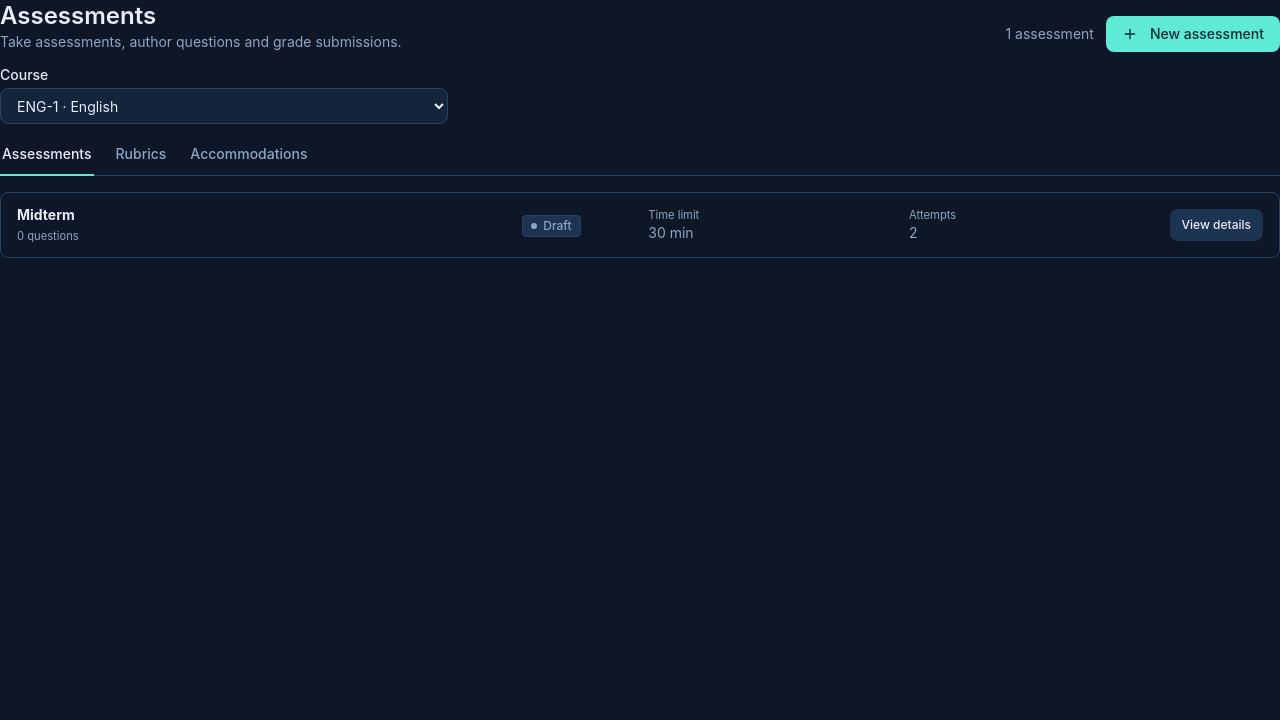
Test: AssessmentsPage › opens the New assessment panel, marks required fields, blocks an empty submit and sends the same body
Expected: the text "Midterm" is shown, [17, 206, 75, 223]
Click the button "New assessment": [1193, 34] box [1106, 16, 1279, 52]
(page scrolled)
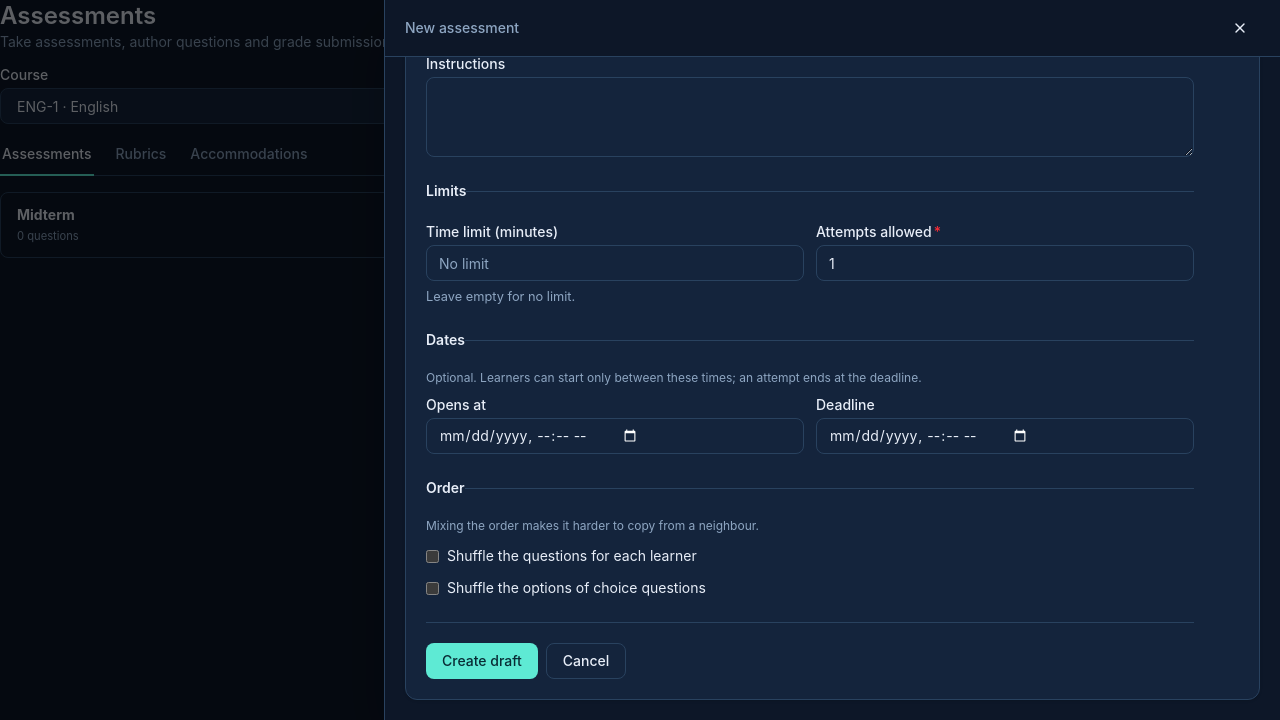
Result: the dialog "New assessment" is shown
Click the button "Create draft": [482, 661] box [426, 643, 538, 679]
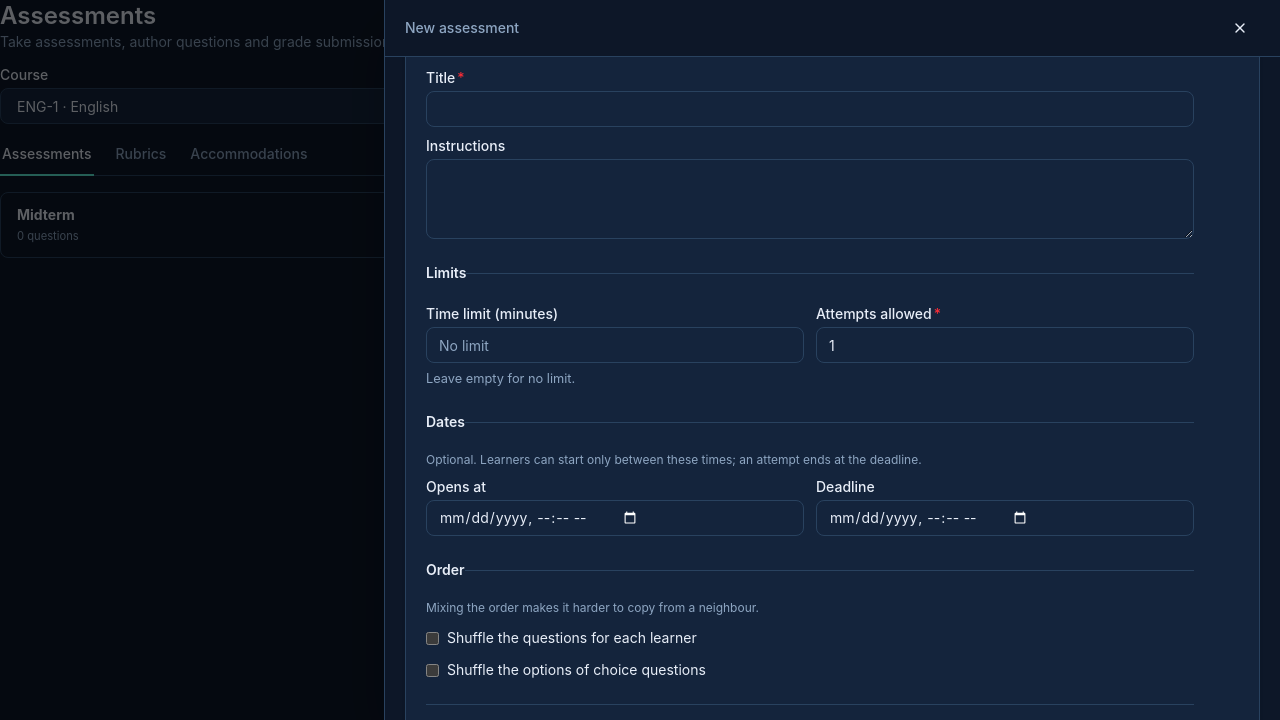
In the field labelled "Title": [810, 109] box [426, 91, 1194, 127], type "Final"
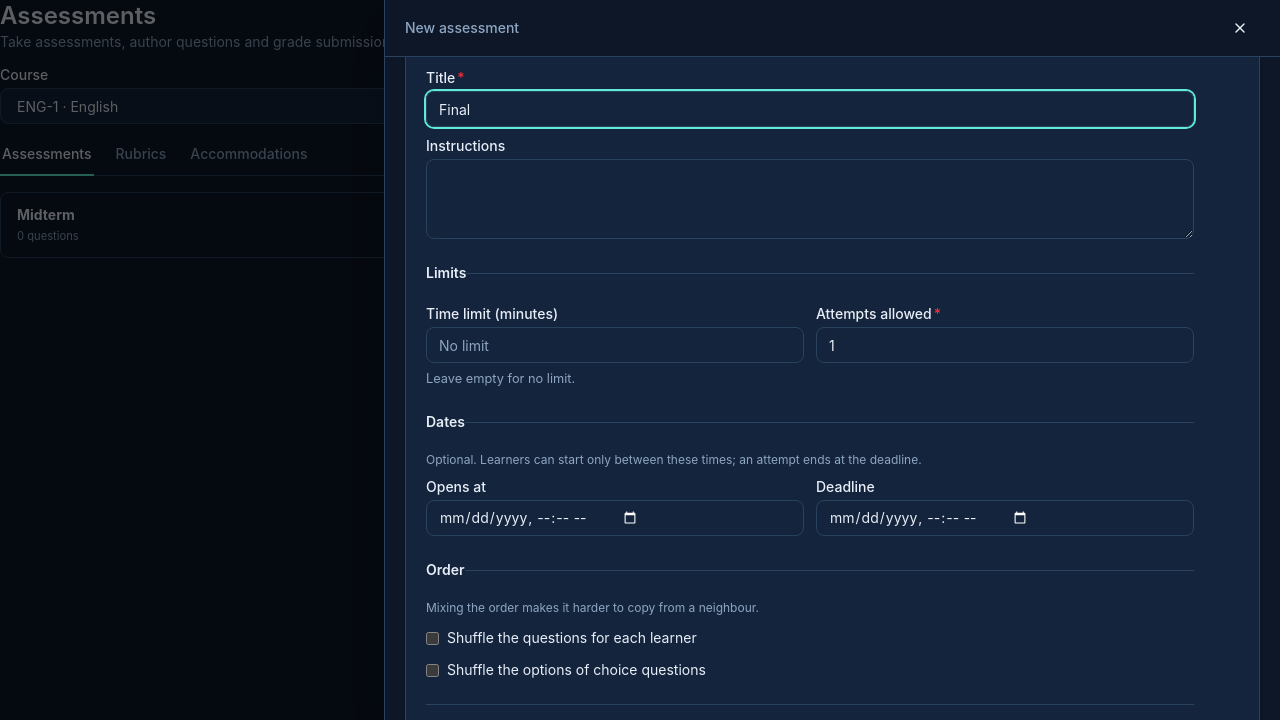
In the number field labelled "Time limit (minutes)": [615, 345] box [426, 327, 804, 363], type "45"
(page scrolled)
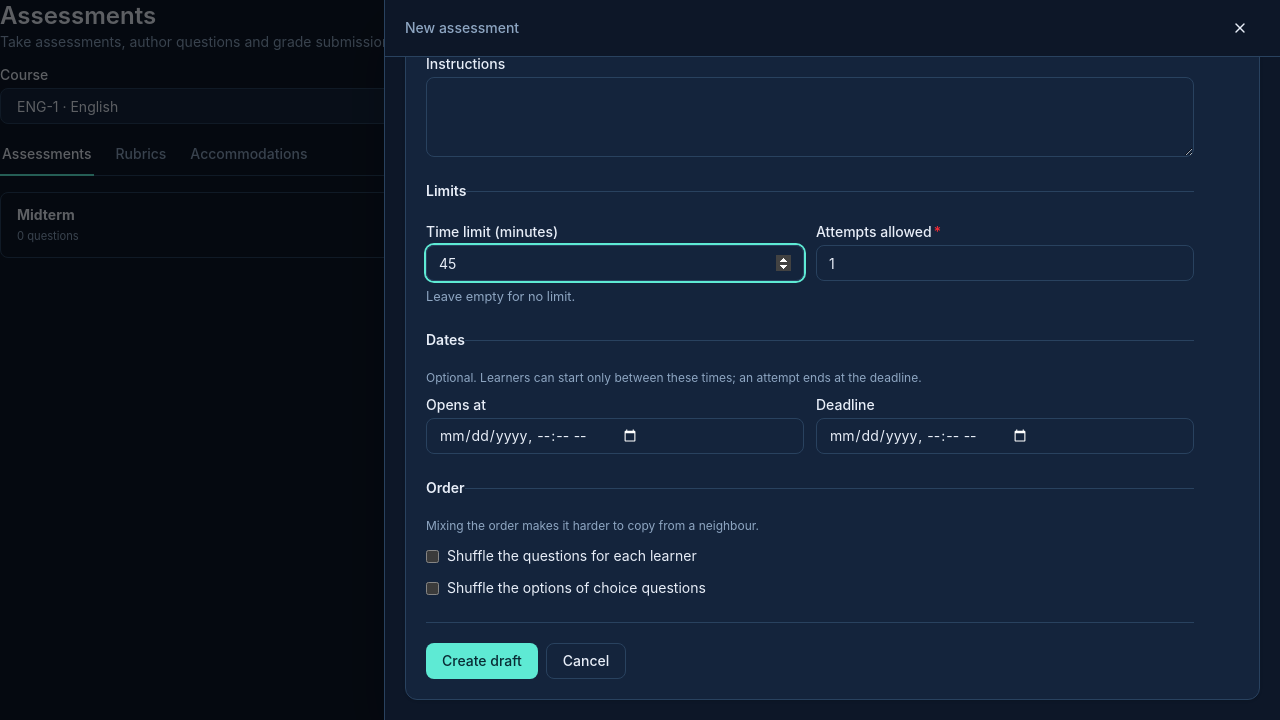
Click the button "Create draft": [482, 661] box [426, 643, 538, 679]
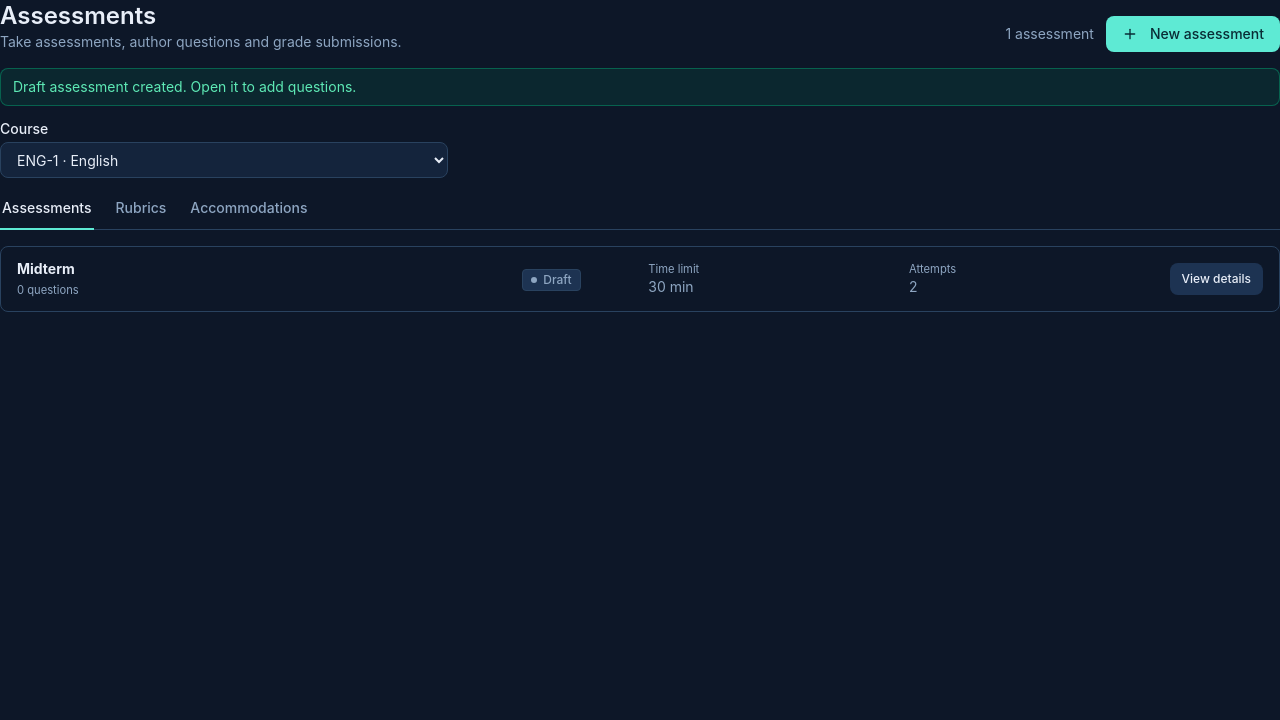
Result: the text "Draft assessment created. Open it to add questions." is shown at [0, 68, 1279, 106]
